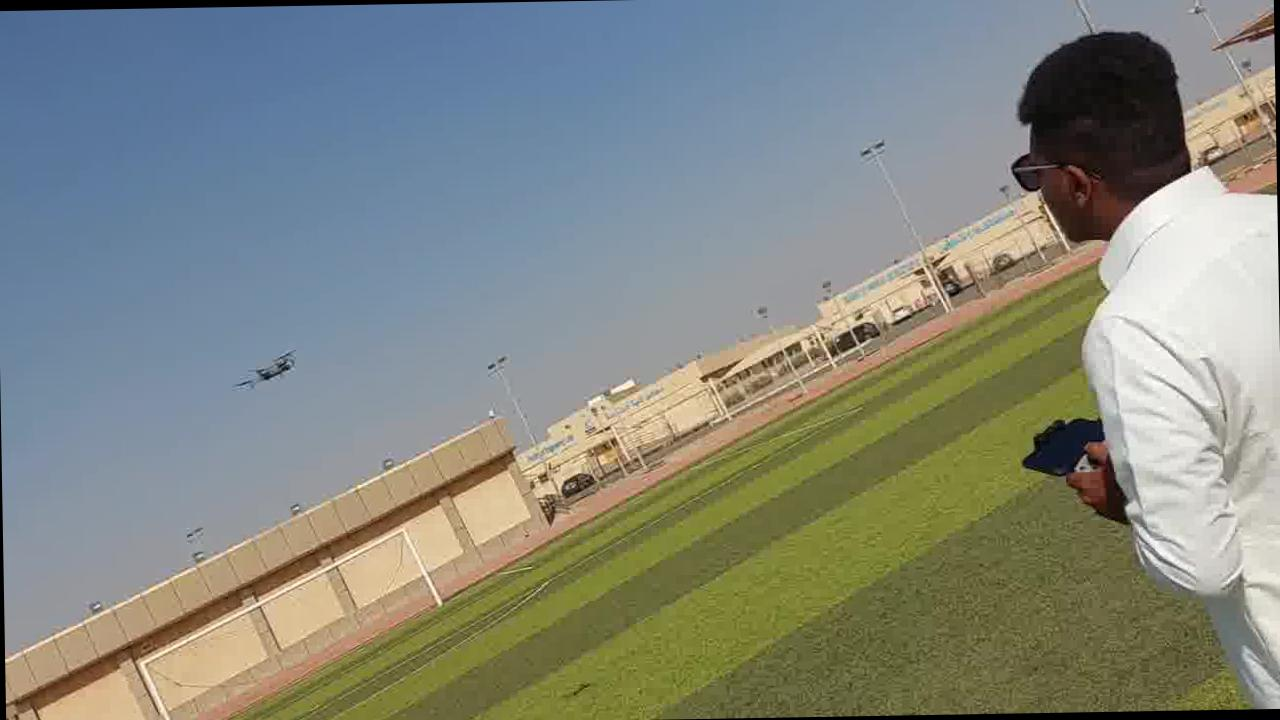drone: (234, 345, 302, 393)
